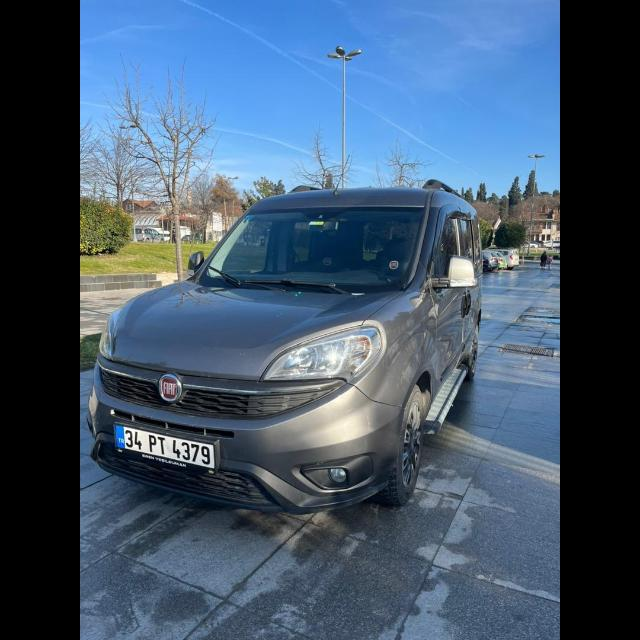Plaka: (117, 424, 217, 468)
